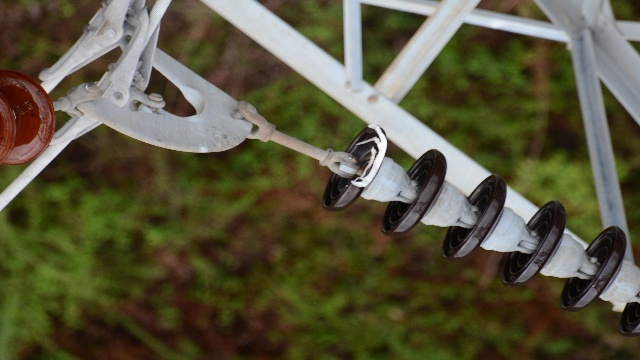broken_local: (348, 122, 389, 188)
insulator_unspecified: (319, 122, 639, 335), (0, 69, 55, 169)
